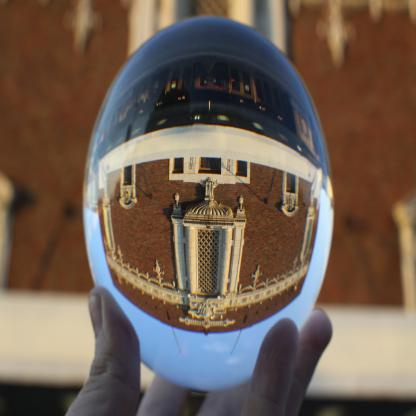Ball: (82, 14, 336, 394)
